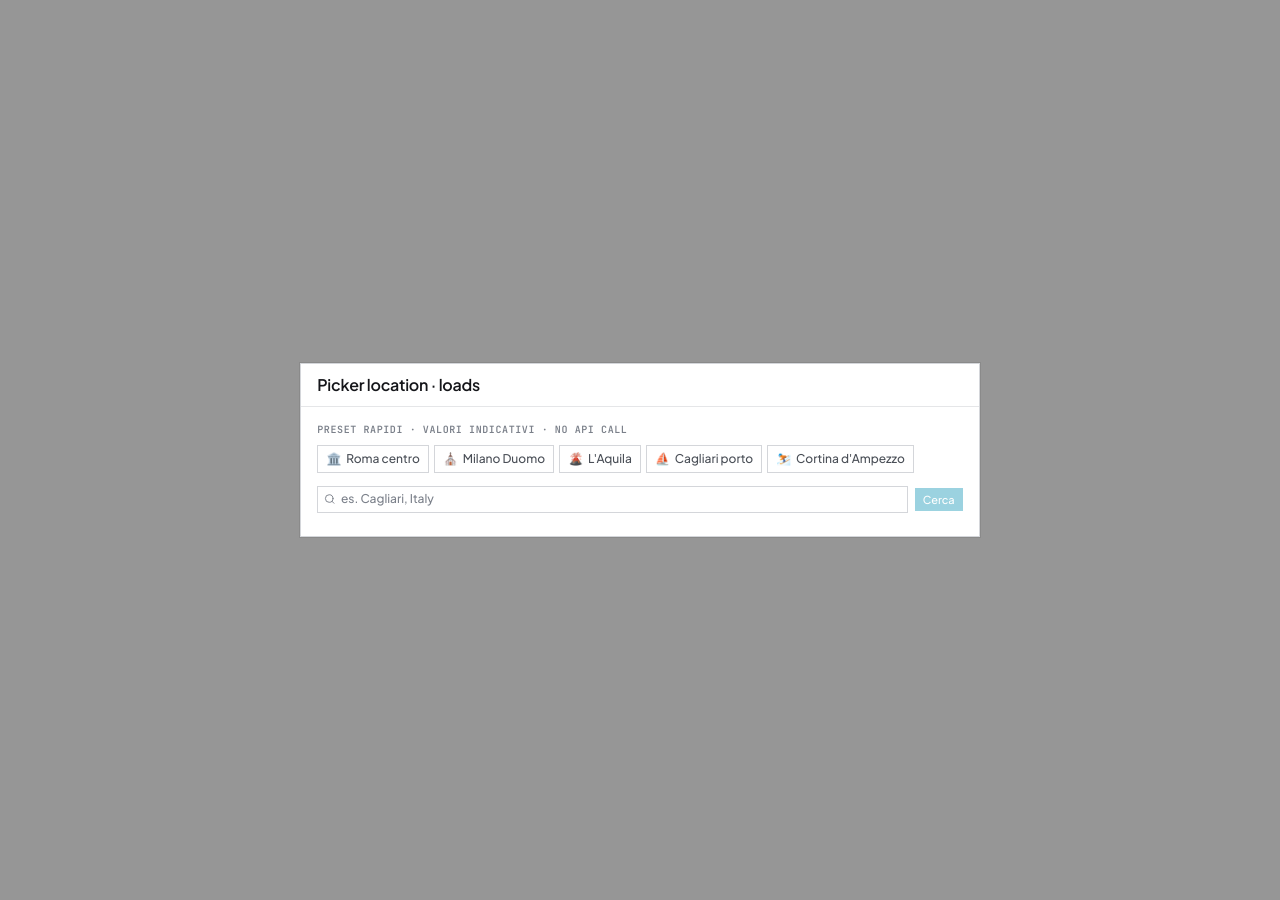
Test case: LocationPickerDialog › performs search and shows results
This screenshot has width=1280, height=900.
Type "Cagliari" into the field with test id "location-search-input" at (613, 499), box [317, 486, 908, 513]
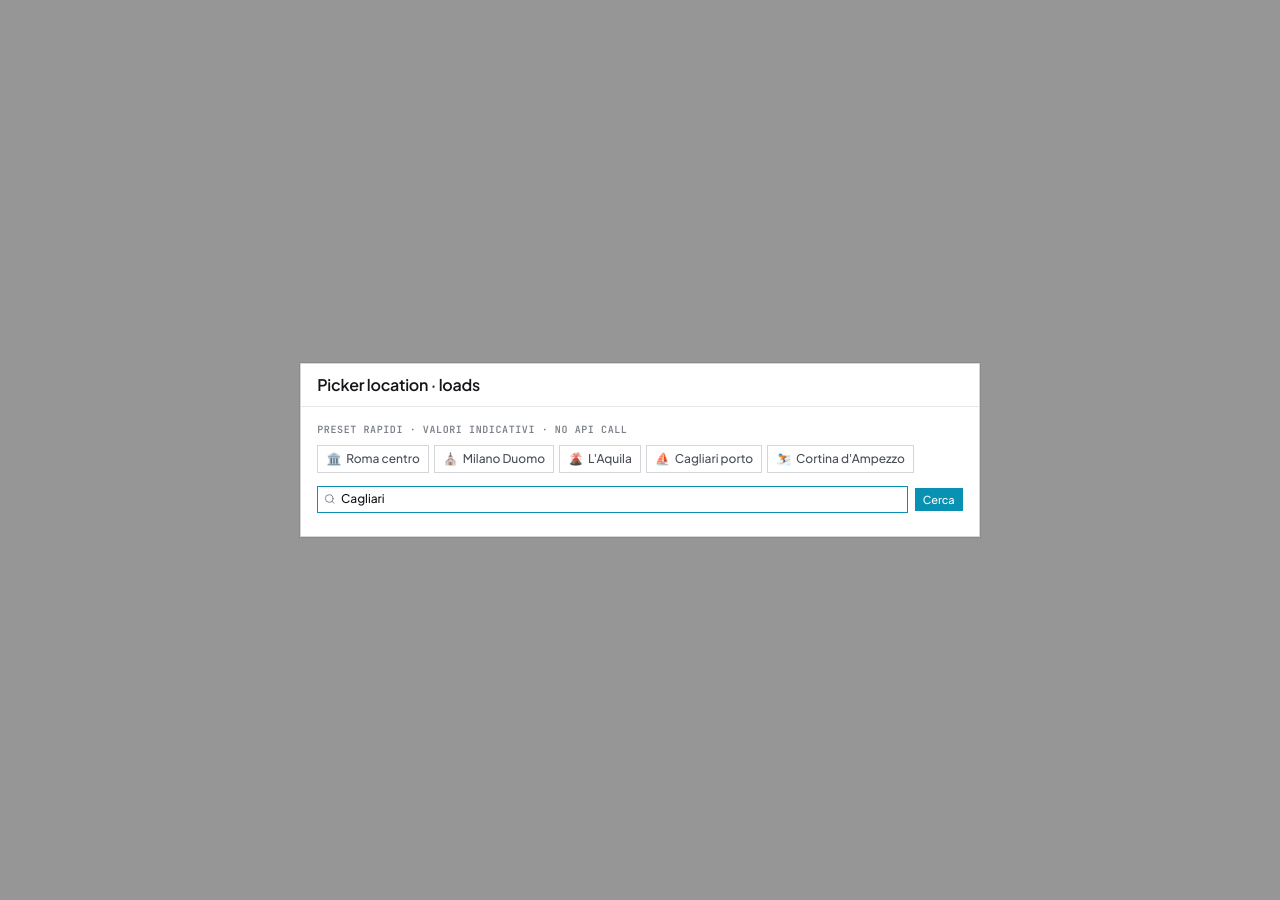
Click the button with test id "location-search-submit" at (939, 499), box [914, 488, 963, 511]
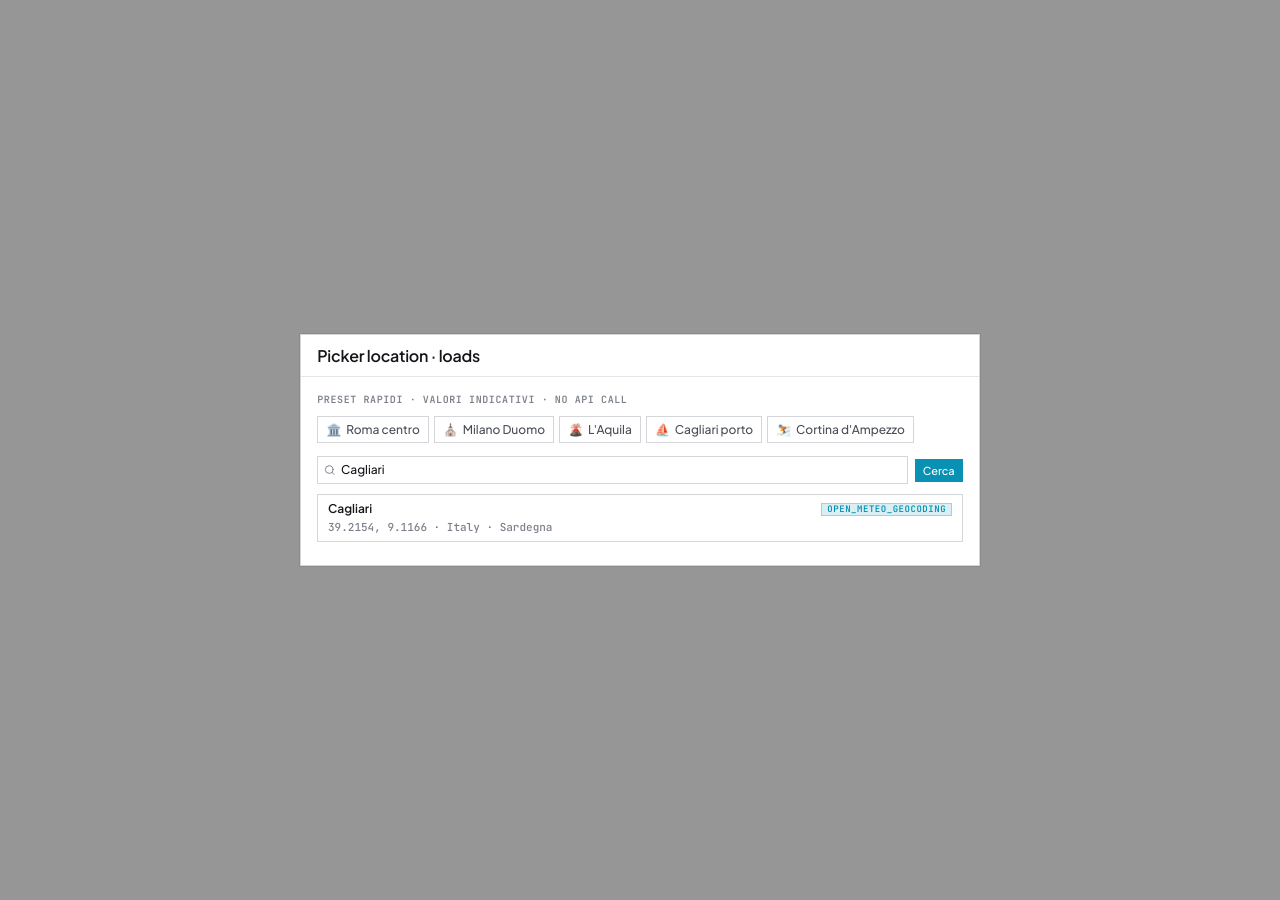
Check: the button with test id "location-result-0" shows "Cagliari", box [317, 494, 963, 542]
Check: the button with test id "location-result-0" shows "open_meteo_geocoding", box [317, 494, 963, 542]
